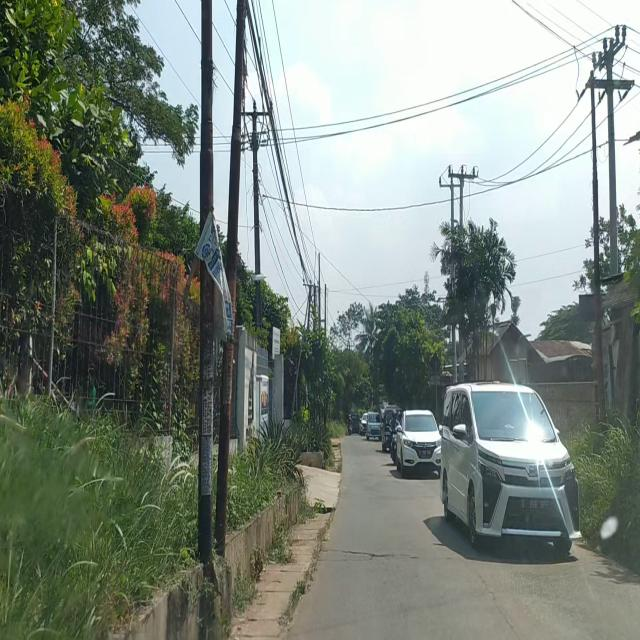Sewer Cover: (328, 548, 425, 564)
